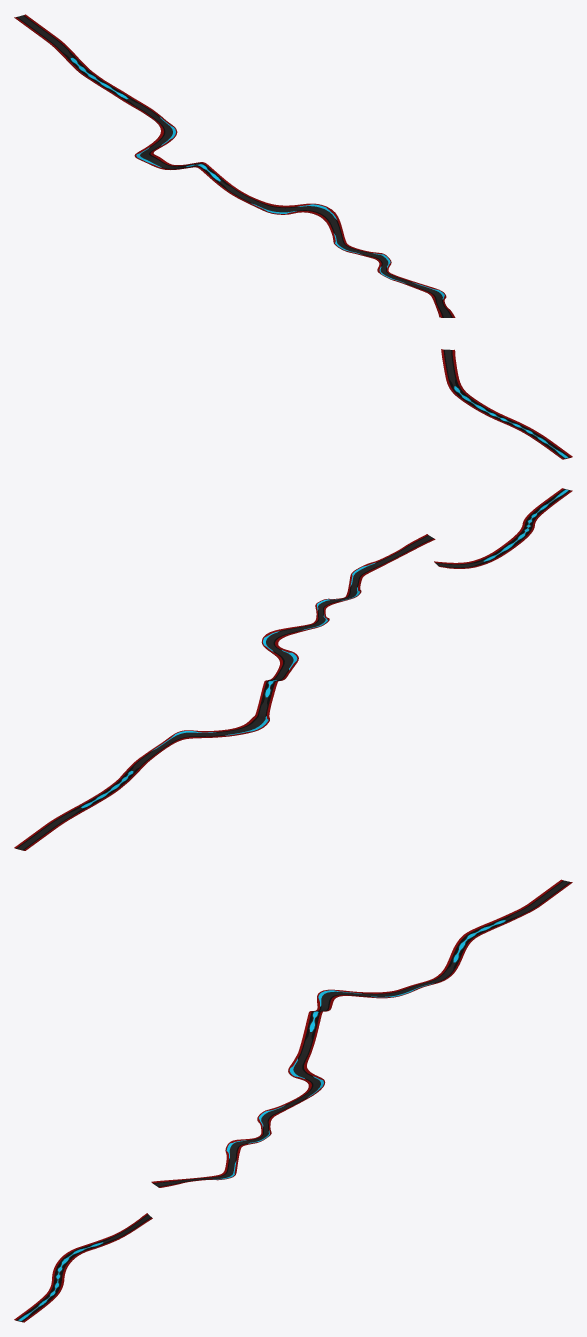
Rendered from Ex_Track.FBX.
3 renders of one model, top to bottom at view 1: azimuth 30°, elevation 25°; view 2: azimuth 150°, elevation 25°; view 3: azimuth 330°, elevation 25°, orthographic.
Visible parts, largest first — view 1: Ex_Track; view 2: Ex_Track; view 3: Ex_Track.
Boxes of the visible parts, x1,y1,x2,y2 form: Ex_Track: [14, 14, 572, 459]; Ex_Track: [14, 488, 572, 850]; Ex_Track: [14, 879, 572, 1322].
Size of the model in its own units: 14093 by 7297 by 123163.
